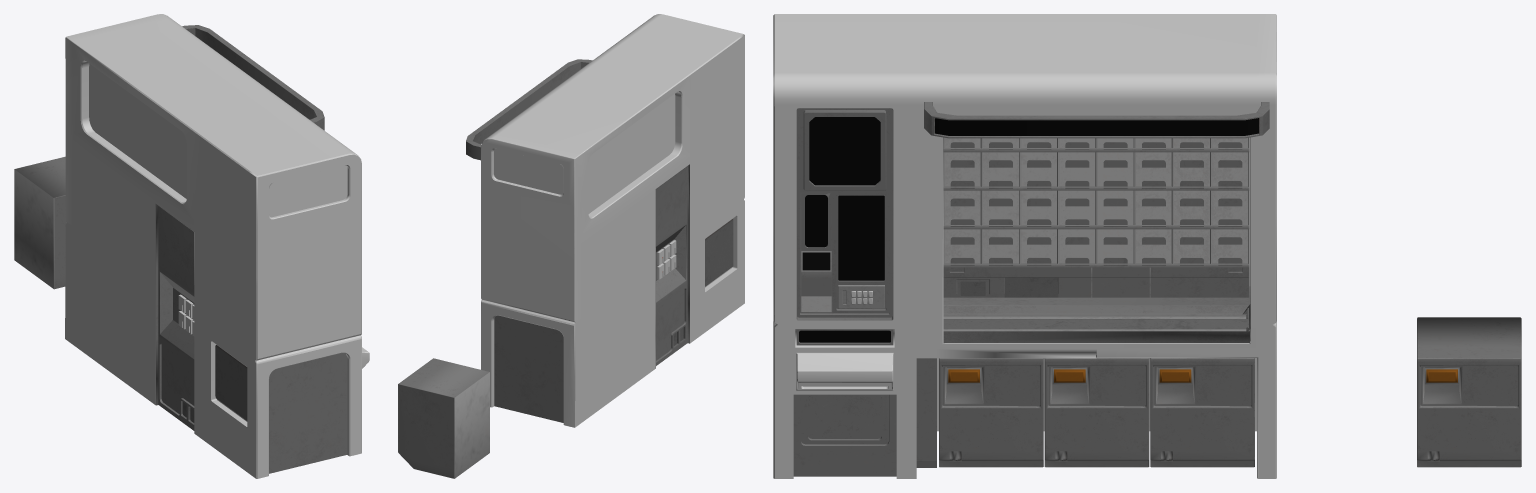
File: vending_machine.fbx
3 renders of one model, left to right at view 1: azimuth 30°, elevation 25°; view 2: azimuth 150°, elevation 25°; view 3: azimuth 270°, elevation 25°, orthographic. The views are drawn at different scales.
Parts seen in each view (by area): view 1: Cube.029, Cube.160, Cube.016, Cube.159, Cube.001, Wending mahine.003, Cube.013, Cube.179; view 2: Cube.029, Cube.001, Cube.160, Cube.016, Cube.159, Wending mahine.003, Cube.013, Cube.179; view 3: Cube.029, Plane.001, Cube, Cube.018, Cube.001, Cube.166, Plane.002, Wending mahine.004, Cube.021, Cube.025, Wending mahine.003, Plane.144 (+5 smaller).
Boxes of the visible parts, x1,y1,x2,y2 form: Cube.029: (65, 14, 369, 478); Cube.160: (269, 353, 347, 473); Cube.016: (155, 204, 194, 430); Cube.159: (89, 64, 186, 198); Cube.001: (14, 156, 66, 289); Wending mahine.003: (182, 25, 324, 130); Cube.013: (215, 344, 247, 420); Cube.179: (178, 294, 194, 336); Cube.029: (481, 14, 744, 427); Cube.001: (398, 358, 489, 478); Cube.160: (494, 315, 563, 422); Cube.016: (655, 164, 689, 368); Cube.159: (588, 94, 675, 213); Wending mahine.003: (466, 59, 592, 160); Cube.013: (705, 219, 733, 286); Cube.179: (657, 240, 676, 279); Cube.029: (773, 14, 1276, 478); Plane.001: (943, 137, 1249, 267); Cube: (939, 358, 1254, 467); Cube.018: (793, 108, 896, 476); Cube.001: (1417, 317, 1521, 467); Cube.166: (943, 286, 1250, 342); Plane.002: (943, 267, 1249, 297); Wending mahine.004: (935, 118, 1258, 135); Cube.021: (809, 117, 880, 185); Cube.025: (838, 195, 884, 280); Wending mahine.003: (924, 102, 1269, 138); Plane.144: (943, 319, 1247, 329).
Bounding box in the file's own units: 104 × 227 × 387.
